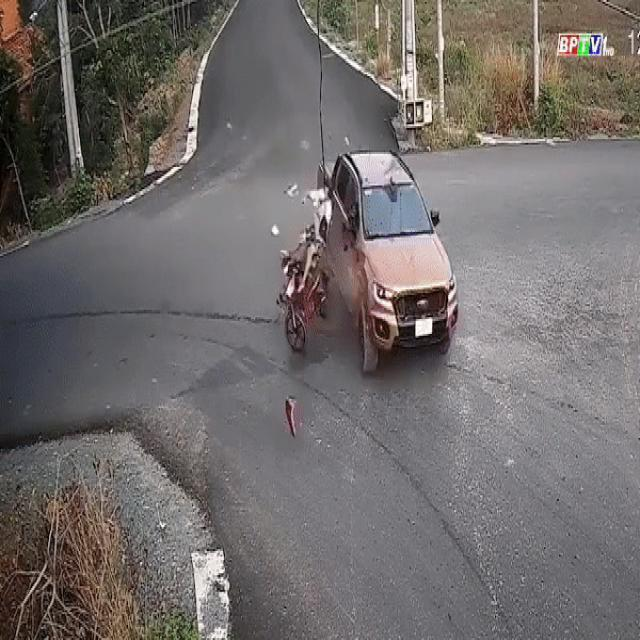multiple_accident: (267, 136, 465, 395)
